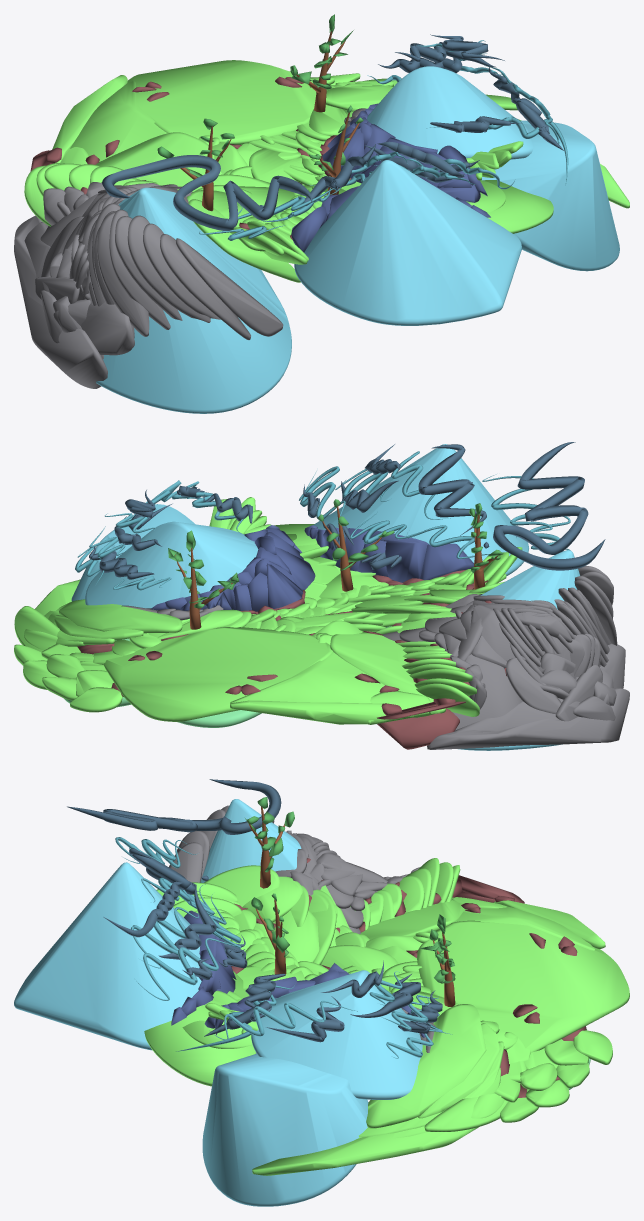
Rendered from mountain.glb.
3 views of the same model, one above another, from view 1: azimuth 30°, elevation 25°; view 2: azimuth 150°, elevation 25°; view 3: azimuth 270°, elevation 25° (orthographic). The views are drawn at different scales.
Visible parts, largest first — view 1: misty_mountain01; view 2: misty_mountain01; view 3: misty_mountain01.
Part boxes in pixels (x1,y1,x2,y2): misty_mountain01: [14, 14, 629, 413]; misty_mountain01: [14, 442, 629, 750]; misty_mountain01: [14, 779, 629, 1206].
Bounding box in the file's own units: 168 × 65.54 × 160.
